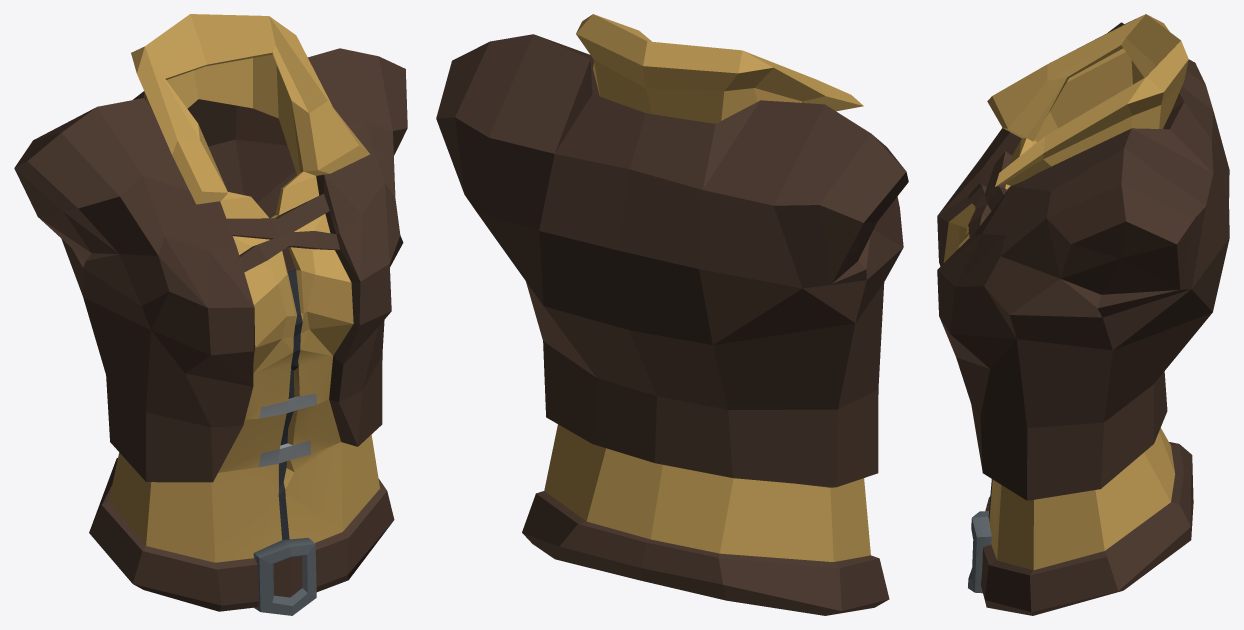
Rendered from Chr_Torso_Female_28_Drop.fbx.
The picture shows the model from 3 angles, left to right: view 1: azimuth 30°, elevation 25°; view 2: azimuth 150°, elevation 25°; view 3: azimuth 270°, elevation 25°; orthographic projection. The views are drawn at different scales.
Visible parts, largest first — view 1: Chr_Torso_Female_28_Static; view 2: Chr_Torso_Female_28_Static; view 3: Chr_Torso_Female_28_Static.
Boxes of the visible parts, x1,y1,x2,y2 form: Chr_Torso_Female_28_Static: (14,14,407,615); Chr_Torso_Female_28_Static: (436,14,908,615); Chr_Torso_Female_28_Static: (937,14,1229,615).
Size of the model in its own units: 51.72 by 68.93 by 33.3.
